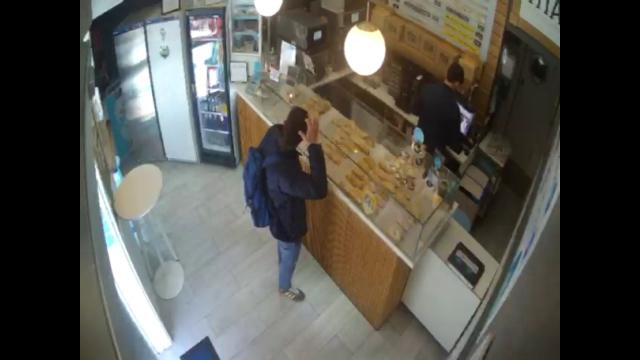cliente: (244, 106, 328, 300)
empleado: (418, 58, 465, 161)
